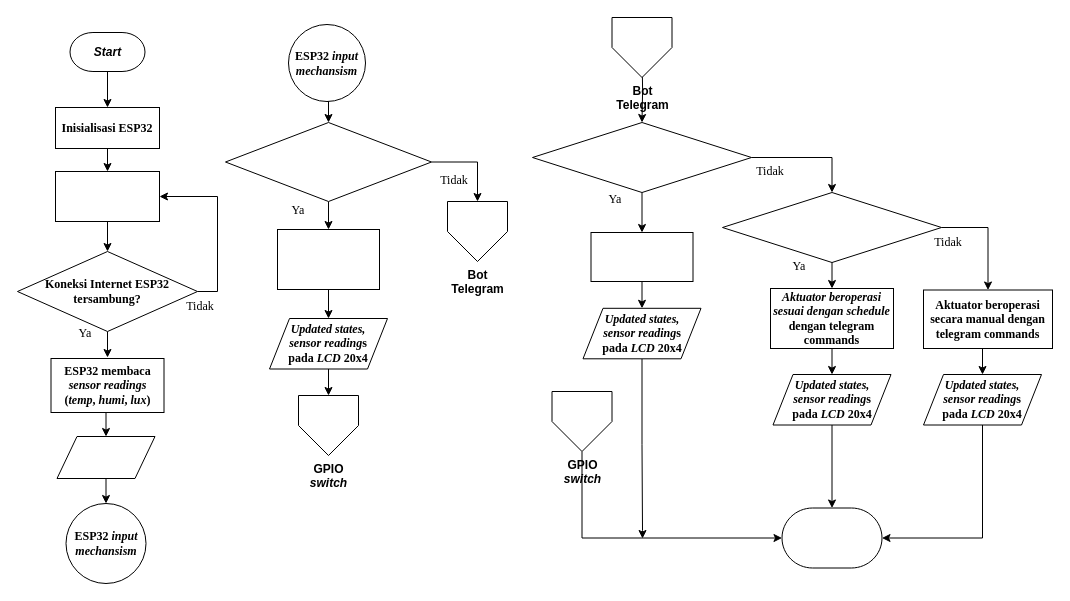
Some shapes in this 1070 by 601 pixel diagram are drawn without their labels. The shapes that lost their labels are listed below. From the top down, each one's centre as x and y in pixels, then its label:
the point at 328,162: Take over conditions (Take over switch)
the point at 642,157: Sensor readings commands
the point at 107,196: Menghubungkan ESP32 ke WiFi
the point at 832,227: Scheduled Switch commands
the point at 328,259: Aktuator beroperasi secara manual dengan toggle switch
the point at 641,257: Print sensor readings in telegram chat
the point at 105,457: User input
the point at 831,537: Stop
